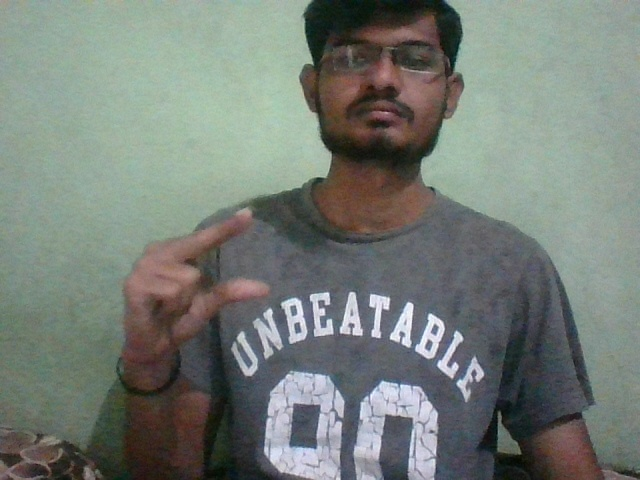no: (103, 202, 278, 351)
